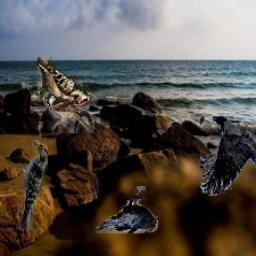Crow: (200, 116, 256, 197), (97, 186, 159, 233)
Sparrow: (44, 93, 96, 134)
Woodpecker: (18, 140, 49, 230), (38, 57, 88, 106)
